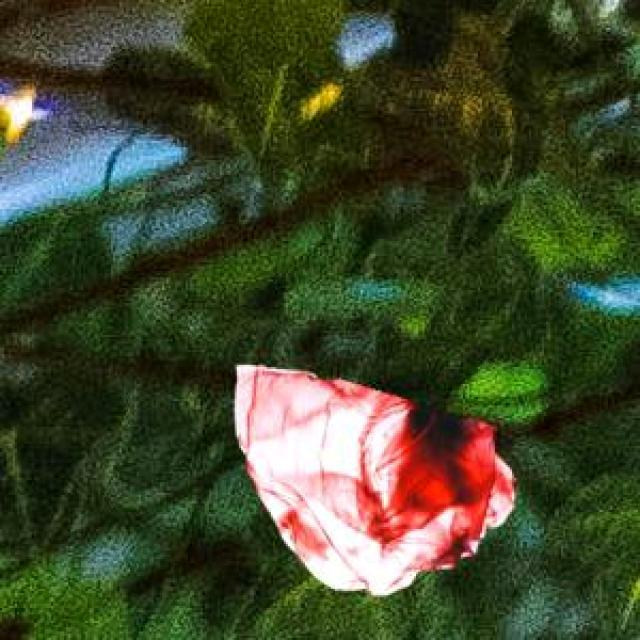Plastic_Bag: (231, 362, 511, 592)
